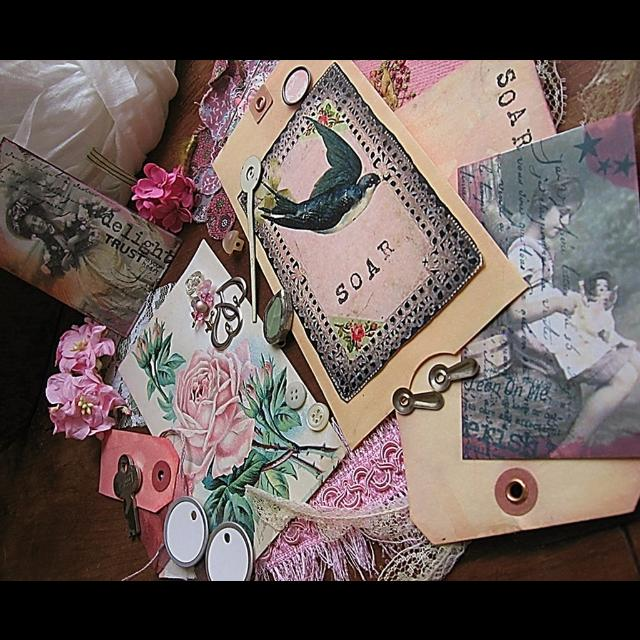Flower: (166, 345, 258, 481), (43, 371, 125, 442), (138, 160, 196, 228), (52, 320, 116, 374), (144, 316, 166, 354), (130, 335, 150, 369), (258, 358, 276, 394), (243, 378, 260, 416), (348, 323, 367, 341), (316, 111, 329, 122), (370, 318, 380, 332)
